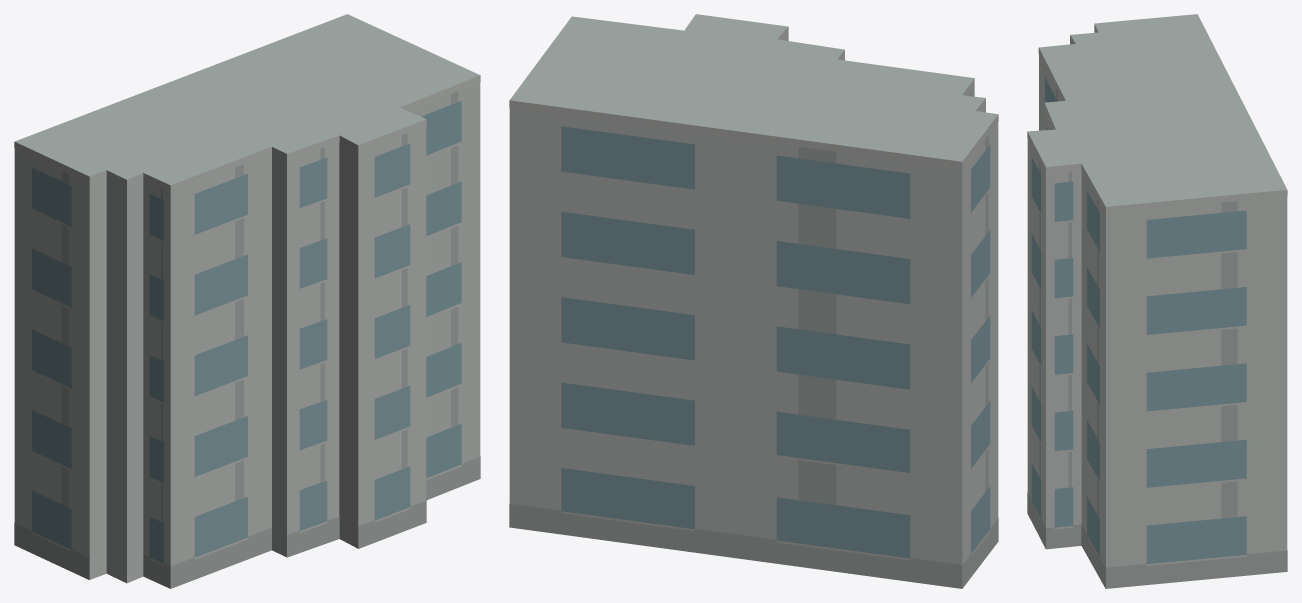
File: survey-upis-32501155.glb
3 views of the same model, side by side, from view 1: azimuth 30°, elevation 25°; view 2: azimuth 150°, elevation 25°; view 3: azimuth 270°, elevation 25° (orthographic). The views are drawn at different scales.
Visible parts, largest first — view 1: survey-upis-32501155.tmp; view 2: survey-upis-32501155.tmp; view 3: survey-upis-32501155.tmp.
Part boxes in pixels (<box>): survey-upis-32501155.tmp: <box>14,14,480,588</box>; survey-upis-32501155.tmp: <box>509,14,998,588</box>; survey-upis-32501155.tmp: <box>1027,14,1287,588</box>.
Bounding box in the file's own units: 15.49 × 14.3 × 8.83.
